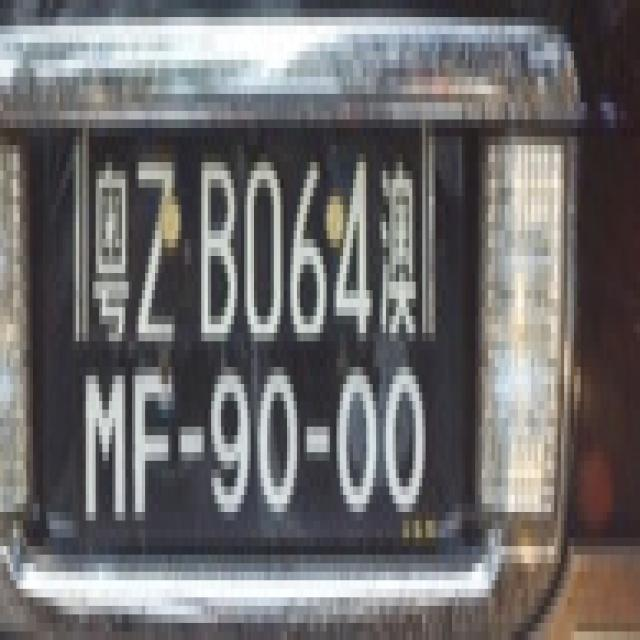0: (239, 135, 285, 357), (384, 348, 433, 548), (334, 355, 380, 542), (254, 360, 303, 534)
4: (331, 136, 377, 354)
6: (284, 146, 335, 364)
9: (210, 358, 254, 534)
B: (194, 133, 243, 361)
F: (126, 350, 182, 533)
M: (78, 352, 128, 538)
Z: (131, 130, 182, 352)
